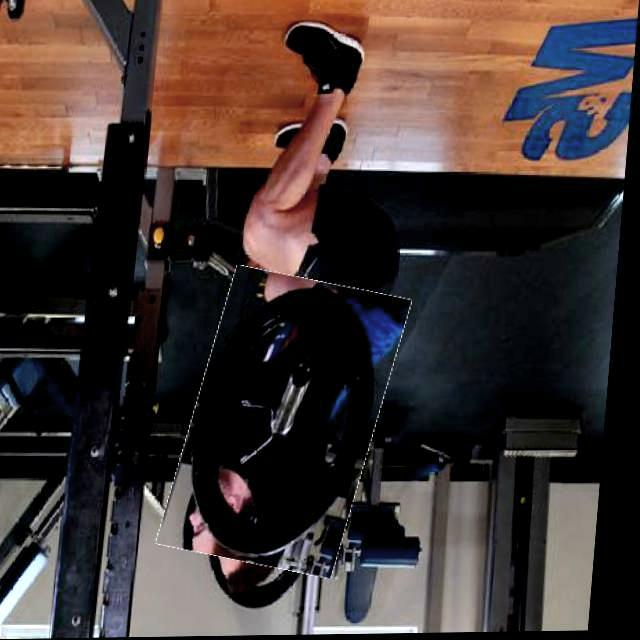barbell: (177, 272, 407, 574)
